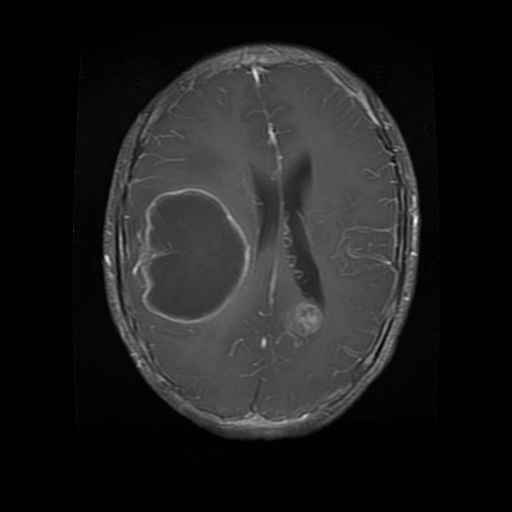glioma: (142, 189, 250, 320)
